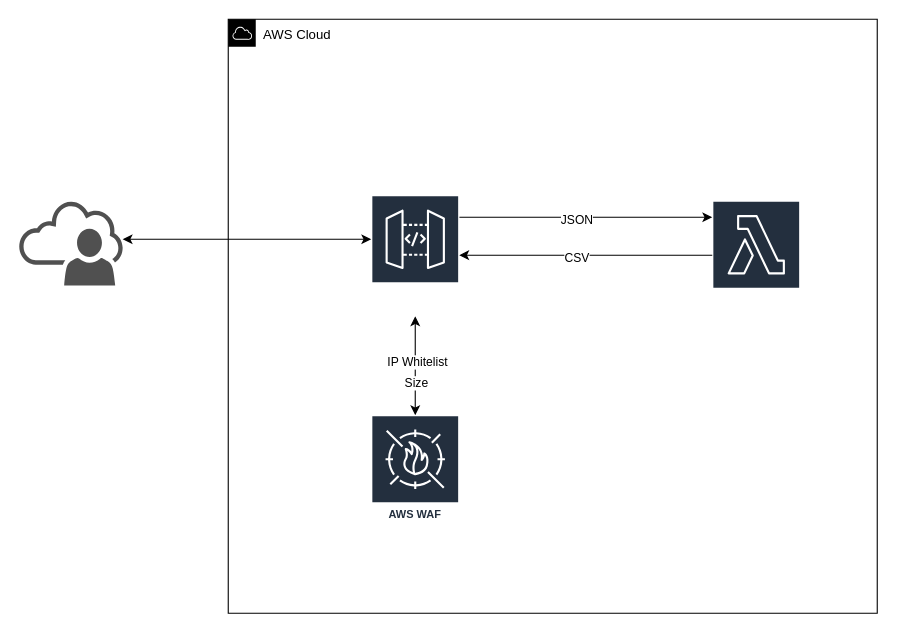
Some shapes in this 897 by 633 pixel diagram are drawn without their labels. Each missing label, with the centre of its shape:
"Amazon API Gateway" goes at point (414, 255).
"AWS Lambda" goes at point (755, 255).
